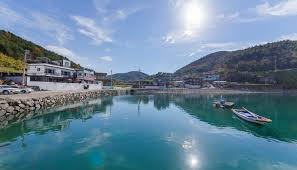mountain: (185, 45, 297, 88)
sea: (25, 90, 296, 170)
sky: (23, 4, 297, 51)
